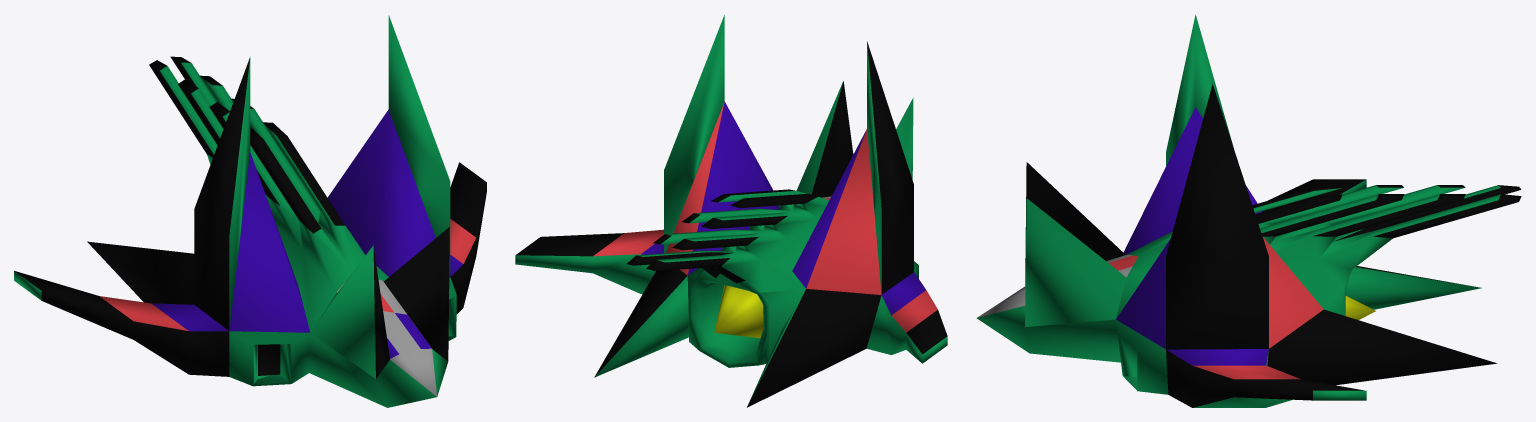
File: AlienMama1.fbx
3 views of the same model, side by side, from view 1: azimuth 30°, elevation 25°; view 2: azimuth 150°, elevation 25°; view 3: azimuth 270°, elevation 25° (orthographic). The views are drawn at different scales.
Visible parts, largest first — view 1: AlienMama; view 2: AlienMama; view 3: AlienMama.
Part boxes in pixels (x1,y1,x2,y2): AlienMama: (14,15,486,407); AlienMama: (515,15,947,407); AlienMama: (976,14,1521,407).
Bounding box in the file's own units: 9.24 × 6.35 × 10.08.
